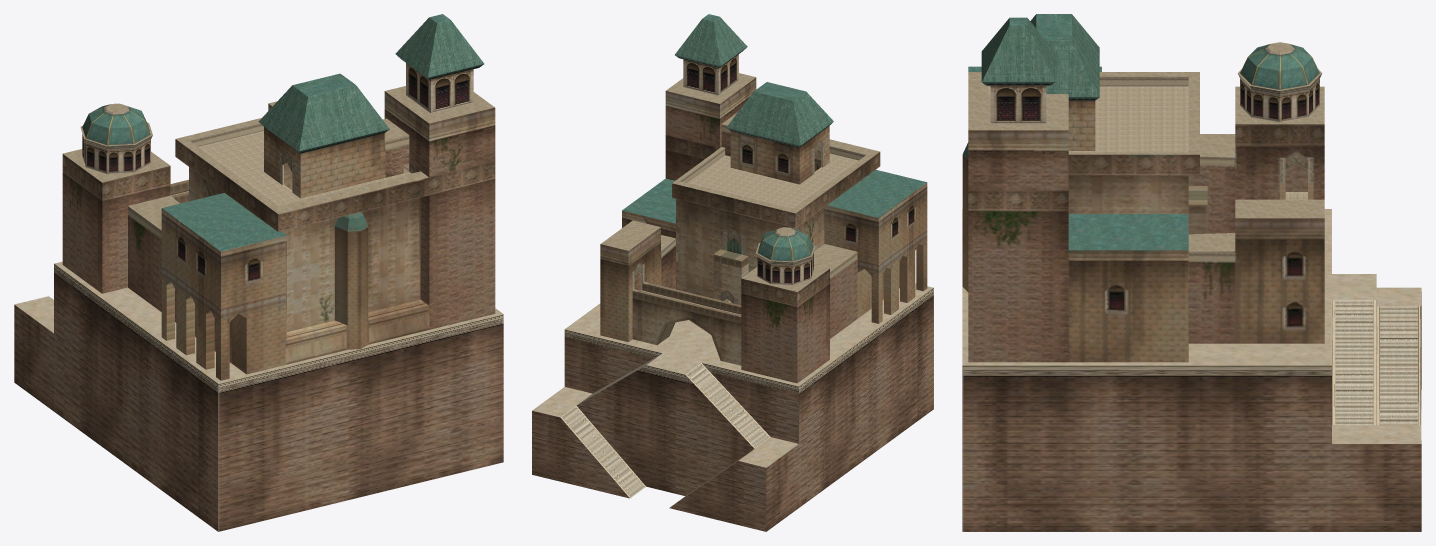
The model's file is ply_nboo_house_lg_s01_fp1_r0_mesh_l2.fbx.
3 renders of one model, left to right at view 1: azimuth 30°, elevation 25°; view 2: azimuth 150°, elevation 25°; view 3: azimuth 270°, elevation 25°, orthographic. The views are drawn at different scales.
Parts seen in each view (by area): view 1: mesh_node; view 2: mesh_node; view 3: mesh_node.
Boxes of the visible parts, x1,y1,x2,y2 form: mesh_node: [14, 14, 503, 531]; mesh_node: [532, 14, 933, 531]; mesh_node: [962, 14, 1421, 531].
Bounding box in the file's own units: 33.3 × 48.5 × 41.26.
